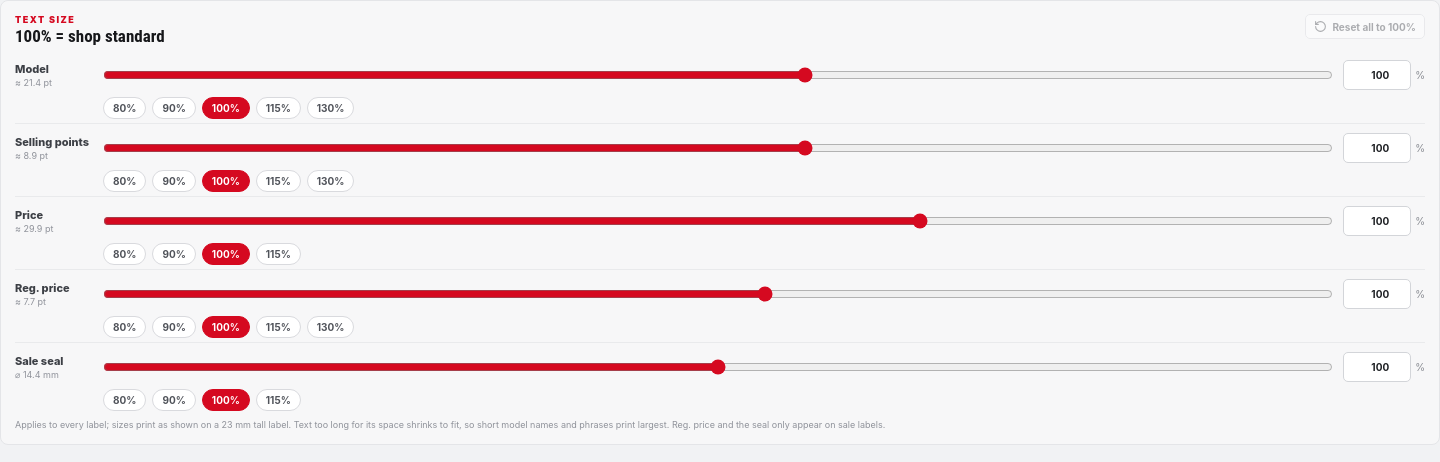
label text size controls › changes one size without touching the others
This screenshot has width=1440, height=462.
Set the slider named "Model name text size slider" to "130" at (1325, 75), box [103, 67, 1333, 83]
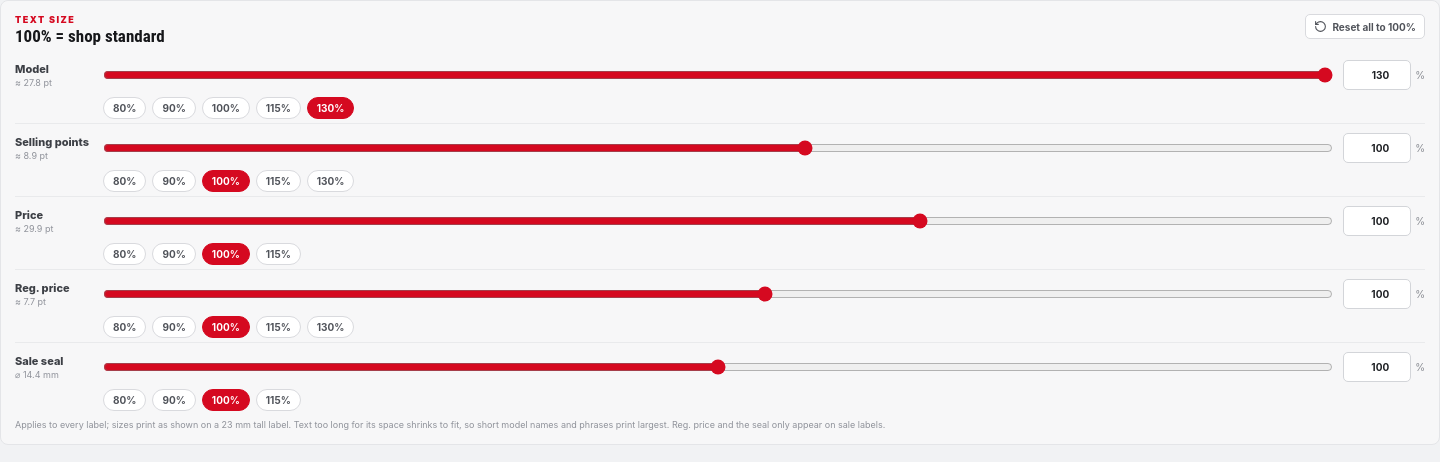
Now the number field named "Model name text size in percent" holds "130", box [1343, 60, 1411, 90]
Now the text "≈ 27.8 pt" is shown, box [15, 77, 52, 88]
Now the button "Reset all to 100%" is enabled, box [1305, 14, 1425, 39]
